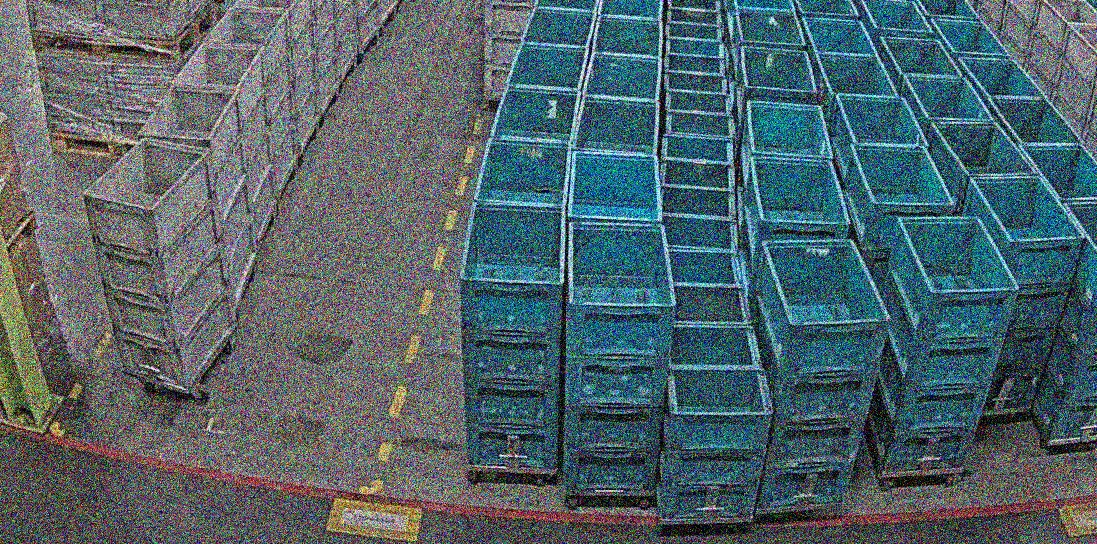4G: (84, 140, 239, 390)
B4: (868, 216, 1017, 475), (754, 239, 890, 509), (565, 221, 676, 496), (961, 176, 1085, 419), (459, 201, 567, 474)
B8: (659, 324, 772, 520)
